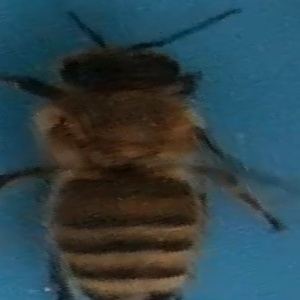bee: (10, 13, 290, 300)
